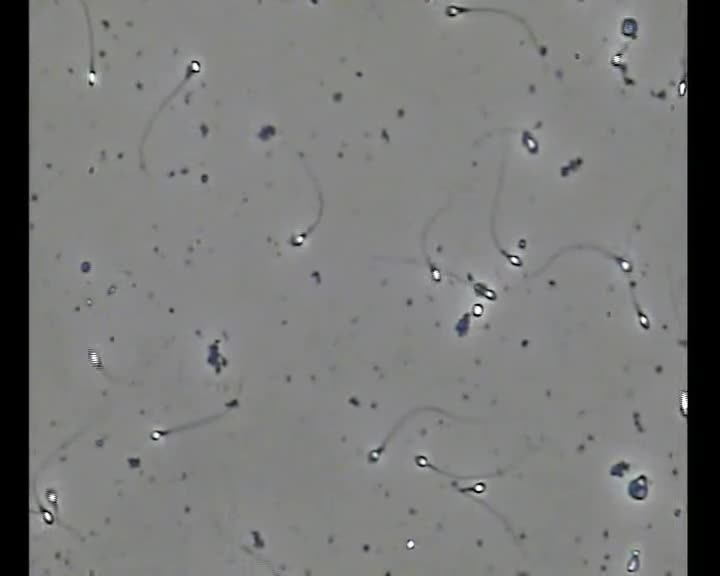spermhead: (289, 232, 307, 246), (415, 453, 430, 468), (87, 68, 97, 86), (472, 303, 484, 317)
